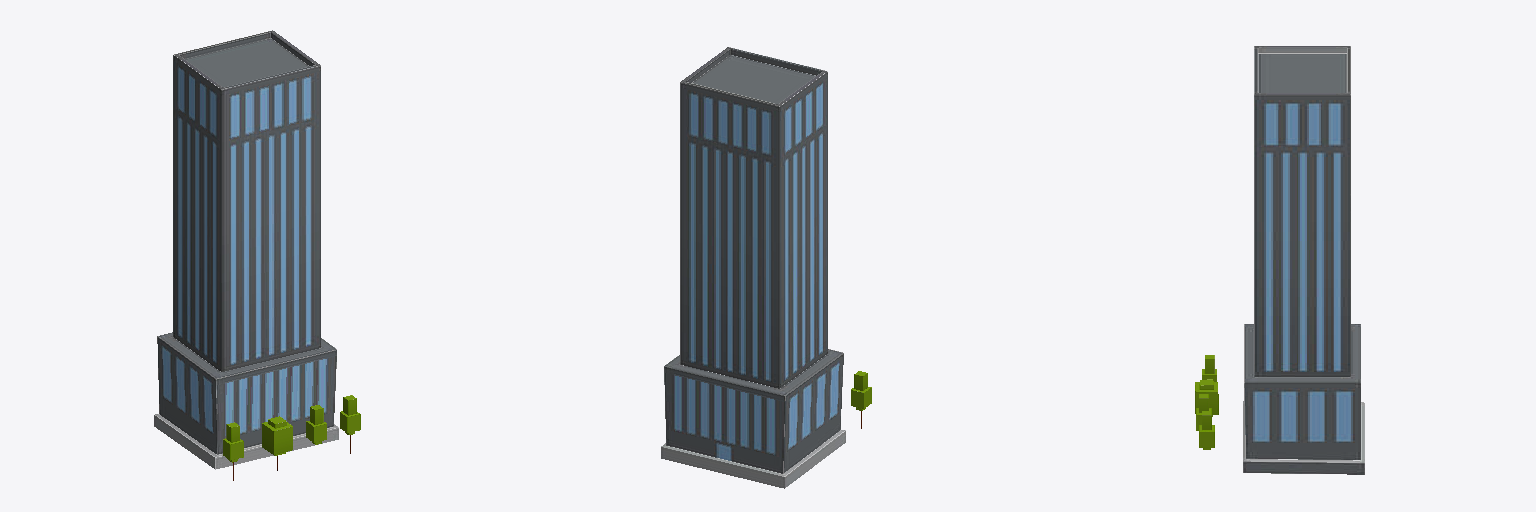
3 views of the same model, side by side, from view 1: azimuth 30°, elevation 25°; view 2: azimuth 150°, elevation 25°; view 3: azimuth 270°, elevation 25° (orthographic).
Visible parts, largest first — view 1: business_2tower_1lvl_Mesh.9254, Tree_3_499_2.243_Mesh.9259, Tree_2_3_61.401_Mesh.9258, Tree_2_3_61.403_Mesh.9261, Tree_2_3_61.402_Mesh.9260; view 2: business_2tower_1lvl_Mesh.9254, Tree_2_3_61.401_Mesh.9258; view 3: business_2tower_1lvl_Mesh.9254, Tree_3_499_2.243_Mesh.9259.
Boxes of the visible parts, box(x1,y1,x2,y2) form: business_2tower_1lvl_Mesh.9254: box(154, 30, 338, 469); Tree_3_499_2.243_Mesh.9259: box(262, 416, 292, 470); Tree_2_3_61.401_Mesh.9258: box(223, 422, 243, 480); Tree_2_3_61.403_Mesh.9261: box(340, 395, 360, 453); Tree_2_3_61.402_Mesh.9260: box(306, 405, 326, 444); business_2tower_1lvl_Mesh.9254: box(661, 47, 845, 488); Tree_2_3_61.401_Mesh.9258: box(851, 371, 871, 428); business_2tower_1lvl_Mesh.9254: box(1243, 46, 1364, 474); Tree_3_499_2.243_Mesh.9259: box(1195, 379, 1218, 416).
Bounding box in the file's own units: 1.53 × 4.22 × 1.74.
3 materials, 3 textured.